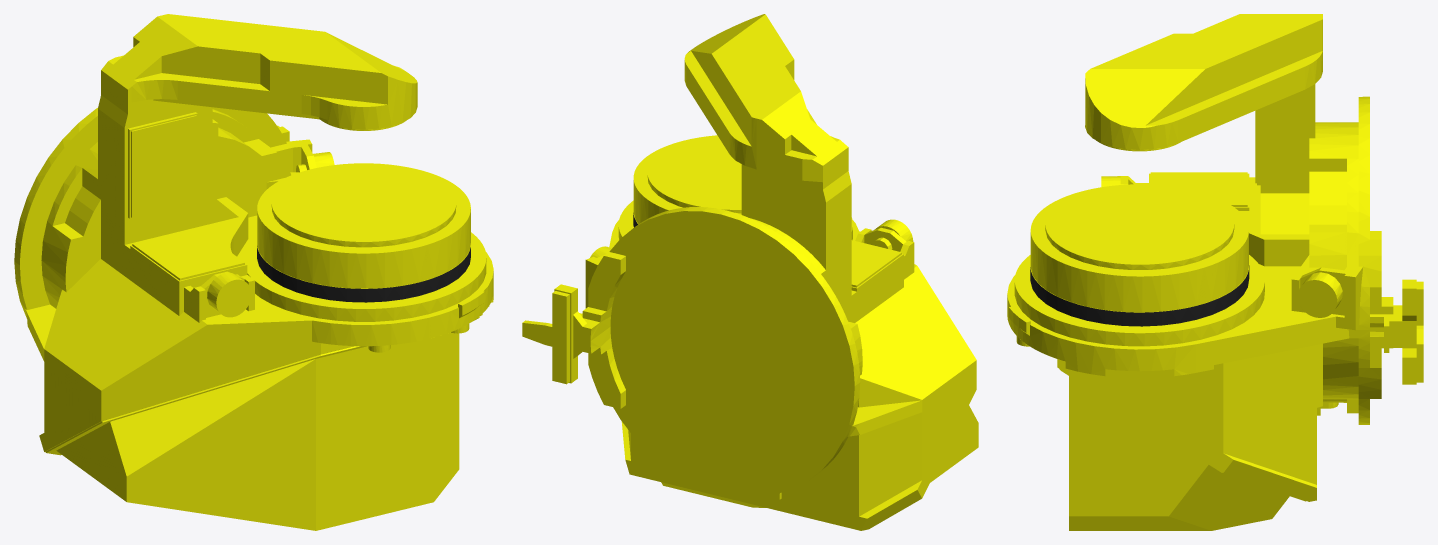
The picture shows the model from 3 angles, left to right: view 1: azimuth 30°, elevation 25°; view 2: azimuth 150°, elevation 25°; view 3: azimuth 270°, elevation 25°; orthographic projection. The views are drawn at different scales.
Visible parts, largest first — view 1: node; view 2: node; view 3: node.
Boxes of the visible parts, box(x1,y1,x2,y2) form: node: box(14, 14, 493, 530); node: box(522, 14, 978, 530); node: box(1007, 14, 1423, 530).
Size of the model in its own units: 566 by 632 by 540.
